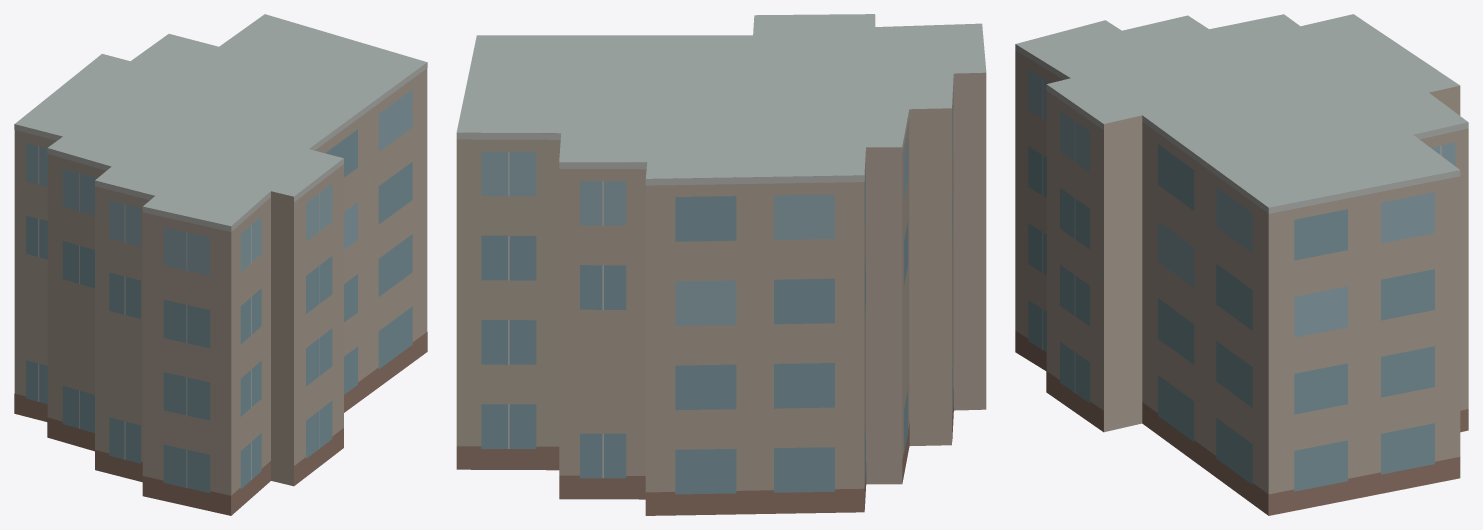
File: survey-upis-32968588.glb
3 renders of one model, left to right at view 1: azimuth 30°, elevation 25°; view 2: azimuth 150°, elevation 25°; view 3: azimuth 270°, elevation 25°, orthographic. The views are drawn at different scales.
Parts seen in each view (by area): view 1: survey-upis-32968588.tmp; view 2: survey-upis-32968588.tmp; view 3: survey-upis-32968588.tmp.
Boxes of the visible parts, x1,y1,x2,y2 form: survey-upis-32968588.tmp: (14,14,427,515); survey-upis-32968588.tmp: (456,14,986,515); survey-upis-32968588.tmp: (1015,14,1468,515).
Bounding box in the file's own units: 16.46 × 12.2 × 16.27.
